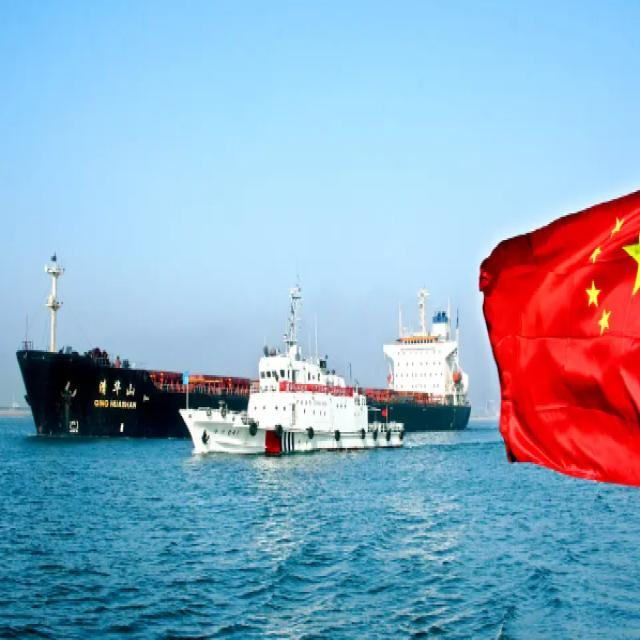cargoship: (9, 313, 497, 462)
houseboat: (177, 318, 408, 492)
